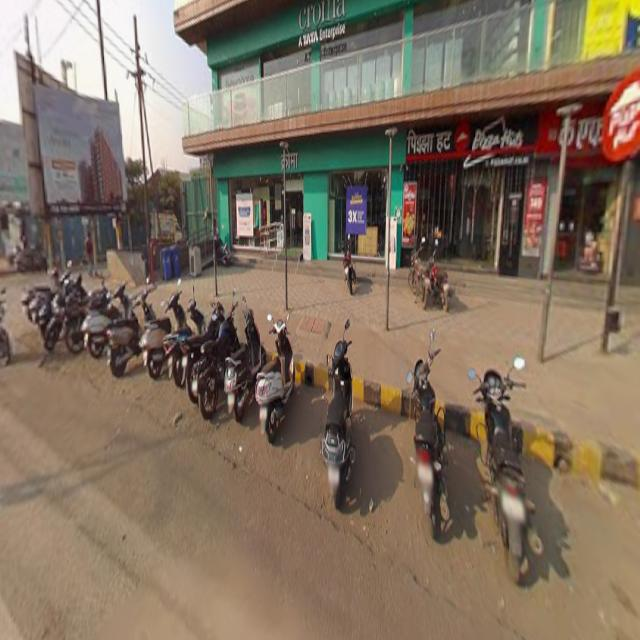Legalparking: (21, 260, 540, 588)
illegalparking: (336, 230, 459, 341)
